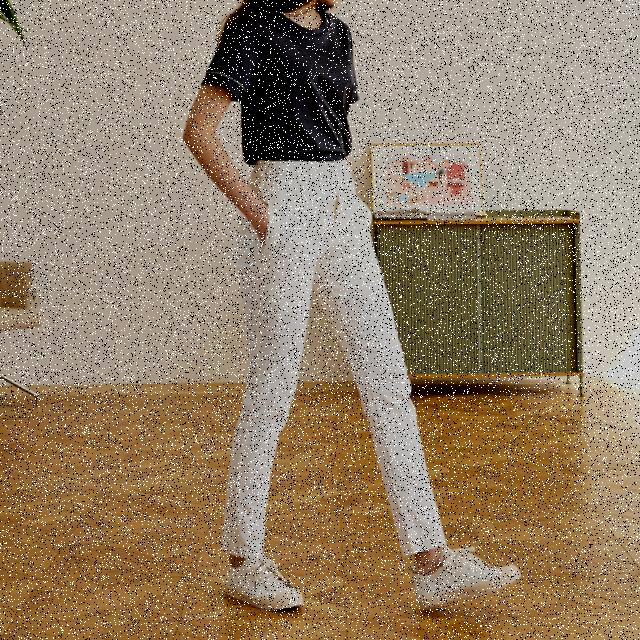Blouse_deep: (223, 160, 444, 569)
